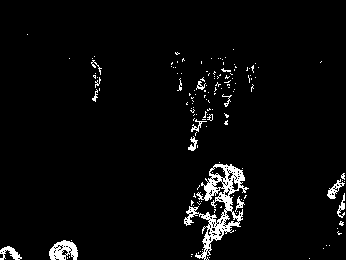person: (185, 76, 214, 151), (215, 64, 236, 127)
